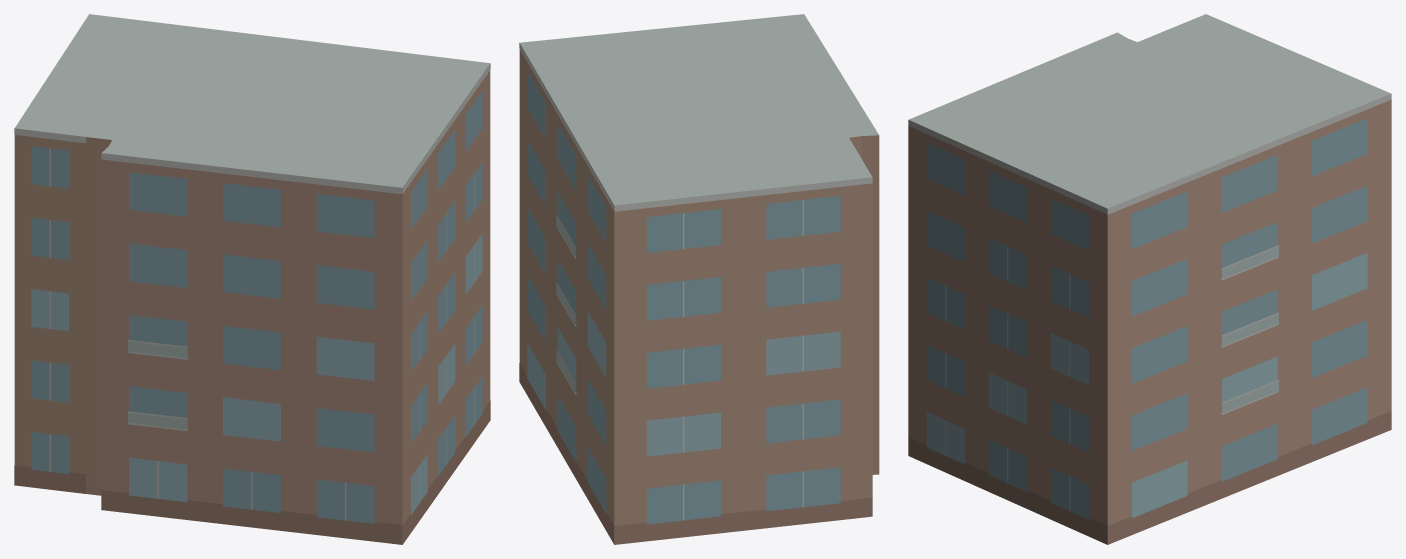
Rendered from survey-upis-32885807.glb.
3 renders of one model, left to right at view 1: azimuth 30°, elevation 25°; view 2: azimuth 150°, elevation 25°; view 3: azimuth 270°, elevation 25°, orthographic. The views are drawn at different scales.
Parts seen in each view (by area): view 1: survey-upis-32885807.tmp; view 2: survey-upis-32885807.tmp; view 3: survey-upis-32885807.tmp.
Part boxes in pixels (box(x1,y1,x2,y2)): survey-upis-32885807.tmp: box(14, 14, 490, 544); survey-upis-32885807.tmp: box(519, 14, 879, 544); survey-upis-32885807.tmp: box(908, 14, 1391, 544).
Size of the model in its own units: 16.78 by 13.5 by 17.59.
